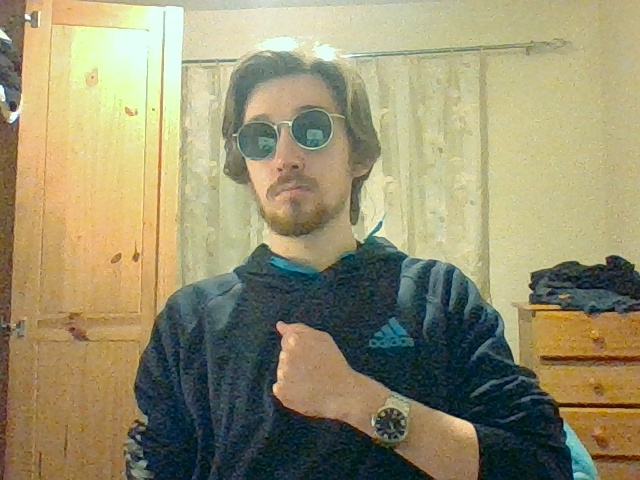my: (271, 320, 343, 416)
